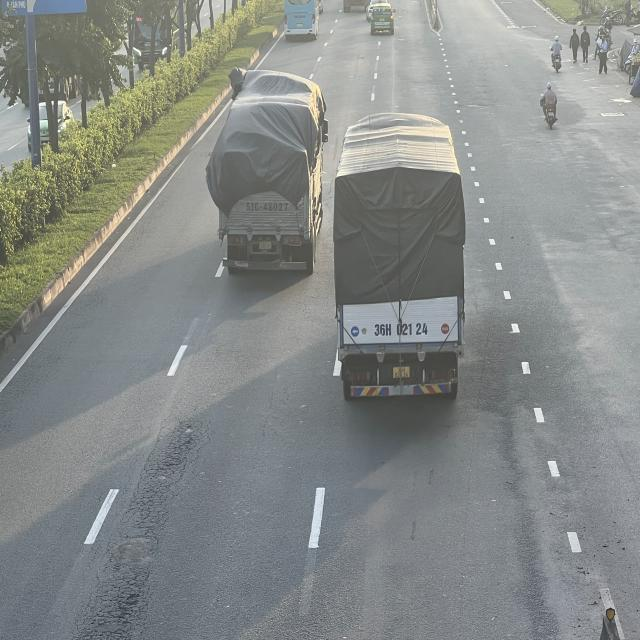coach: (284, 0, 323, 38)
truck: (332, 110, 466, 407), (210, 68, 334, 276)
